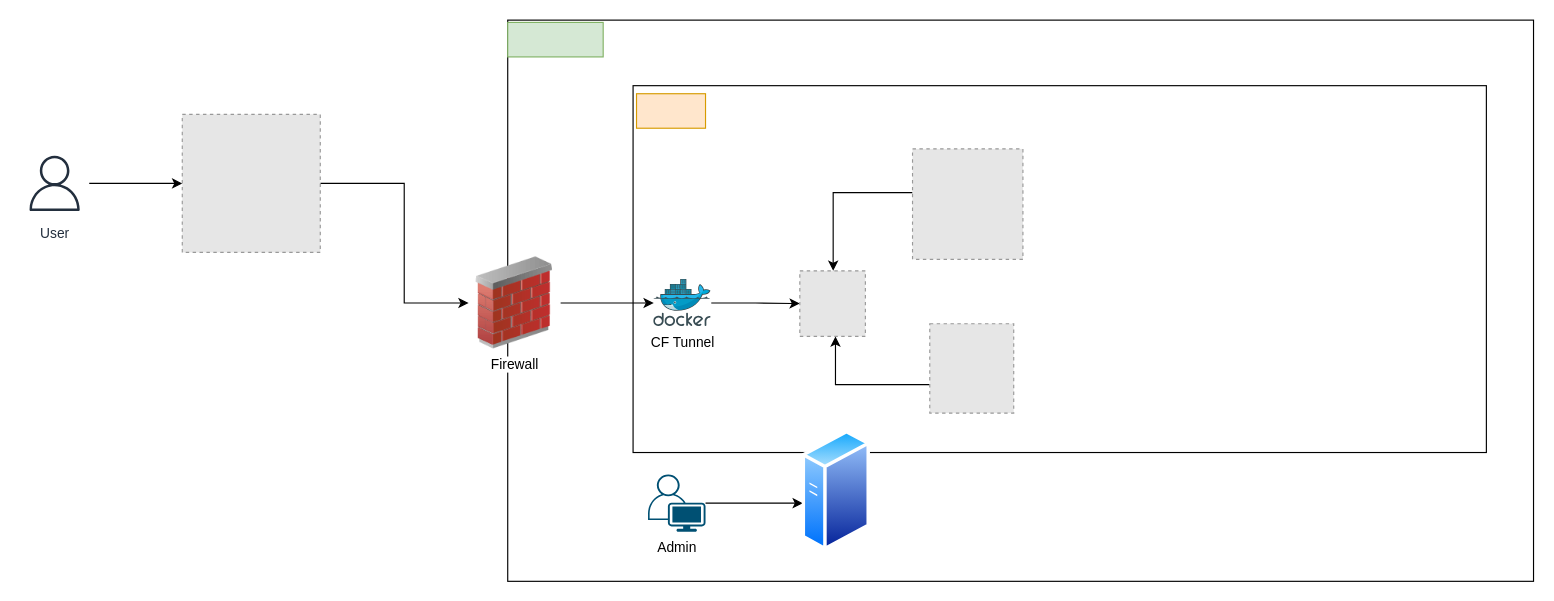
Some shapes in this 1554 by 601 pixel diagram are drawn without their labels. Grey dashed boxes stand in for pictures. The centre of each missing label's shape, as x and y in pixels:
Data Center: the point at 555,39
VM: the point at 670,110
